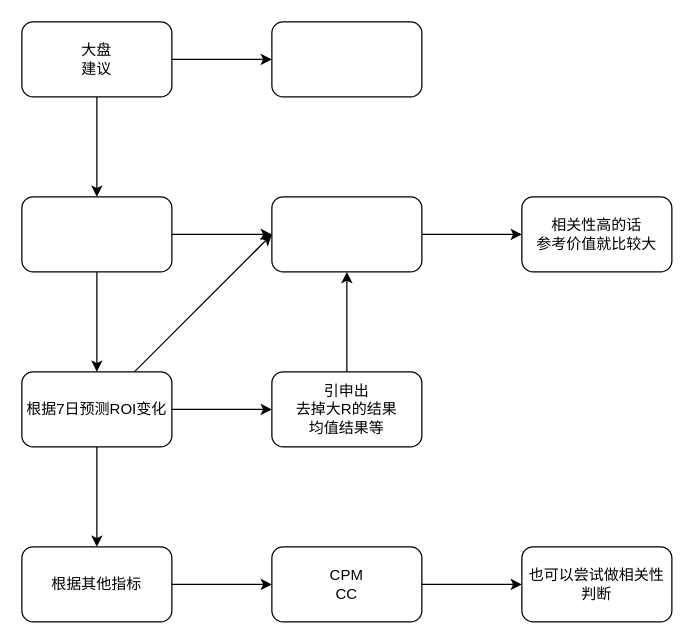
This 694x644 diagram has some shape labels left out. The centre of each missing label's shape, as x and y in pixels:
"与7日ROI做相关性比较" belongs at pixel 346 234.
"最终还是要根据7日ROI变化" belongs at pixel 346 59.
"根据首日ROI变化" belongs at pixel 96 234.
